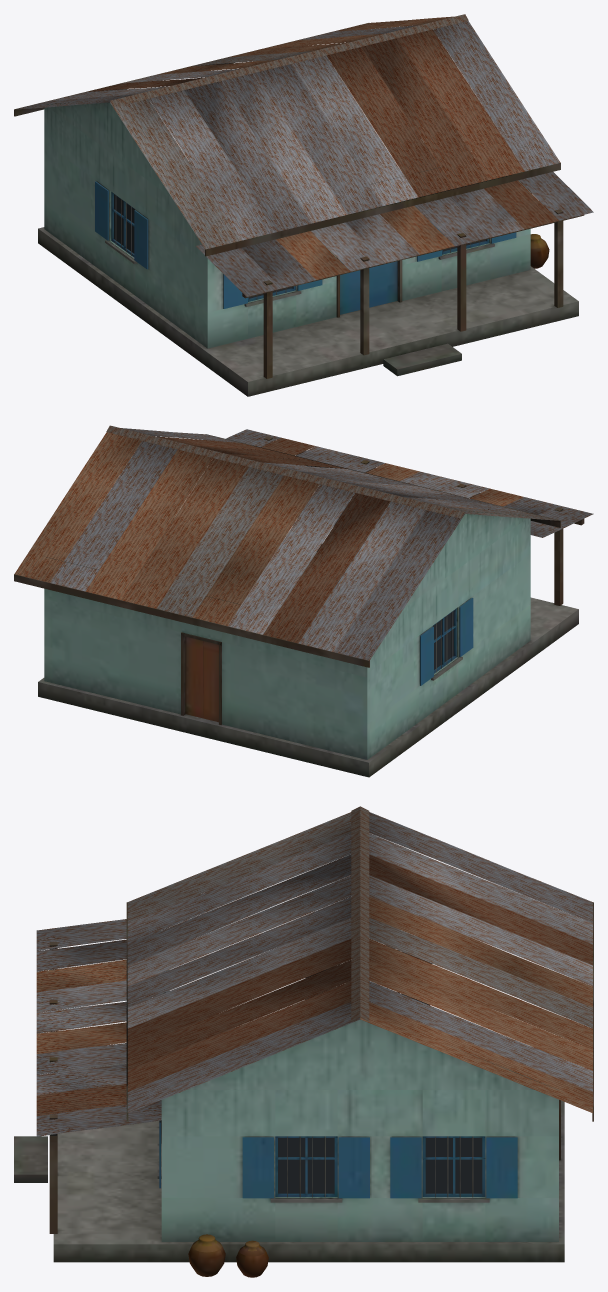
Rendered from house_0.glb.
3 views of the same model, one above another, from view 1: azimuth 30°, elevation 25°; view 2: azimuth 150°, elevation 25°; view 3: azimuth 270°, elevation 25° (orthographic). The views are drawn at different scales.
Parts seen in each view (by area): view 1: house_0_roof, house_0_body, house_0_windows; view 2: house_0_roof, house_0_body, house_0_windows; view 3: house_0_roof, house_0_body, house_0_windows.
Boxes of the visible parts, left/top/right/bottom form: house_0_roof: left=15, top=14, right=593, bottom=296; house_0_body: left=14, top=23, right=584, bottom=396; house_0_windows: left=114, top=194, right=486, bottom=298; house_0_roof: left=14, top=425, right=593, bottom=660; house_0_body: left=14, top=434, right=584, bottom=777; house_0_windows: left=433, top=611, right=453, bottom=669; house_0_roof: left=36, top=806, right=592, bottom=1136; house_0_body: left=14, top=902, right=593, bottom=1277; house_0_windows: left=278, top=1138, right=482, bottom=1193.
Size of the model in its own units: 9.29 by 4.9 by 10.22.
3 materials, 2 textured.
